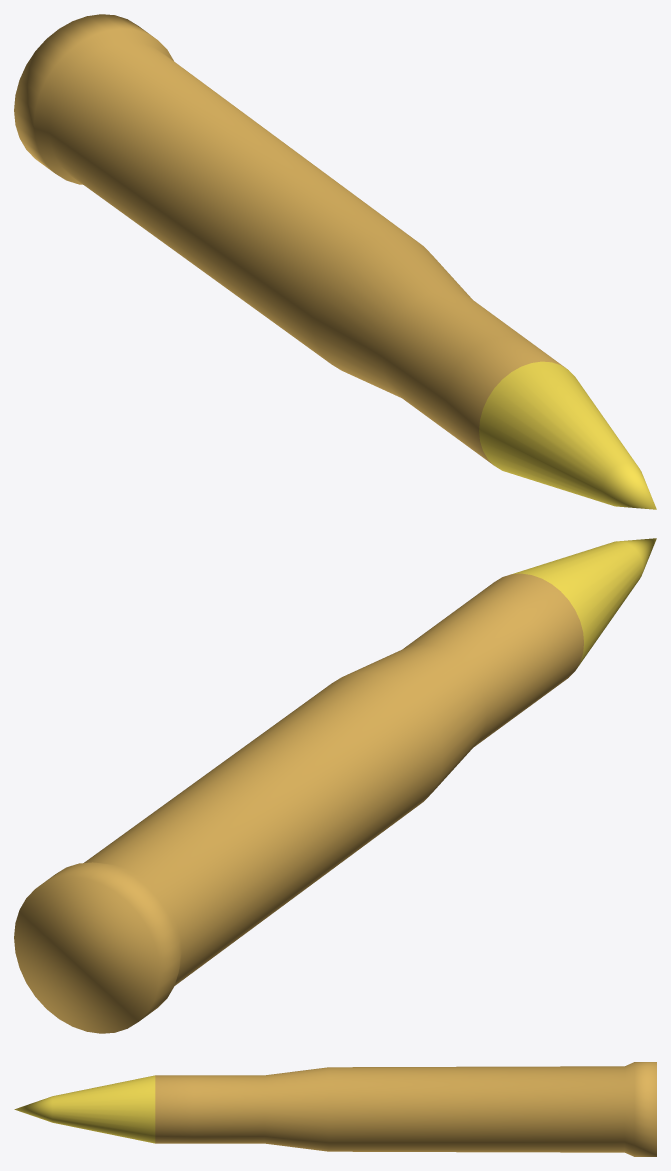
The model's file is needle_50_round_display.glb.
The picture shows the model from 3 angles, top to bottom: view 1: azimuth 30°, elevation 25°; view 2: azimuth 150°, elevation 25°; view 3: azimuth 270°, elevation 25°; orthographic projection. The views are drawn at different scales.
Visible parts, largest first — view 1: AMMO_MESH.015; view 2: AMMO_MESH.015; view 3: AMMO_MESH.015.
Boxes of the visible parts, x1,y1,x2,y2 form: AMMO_MESH.015: (14, 14, 656, 509); AMMO_MESH.015: (14, 538, 656, 1033); AMMO_MESH.015: (14, 1062, 656, 1156).
Bounding box in the file's own units: 0.0204 × 0.0204 × 0.138.
